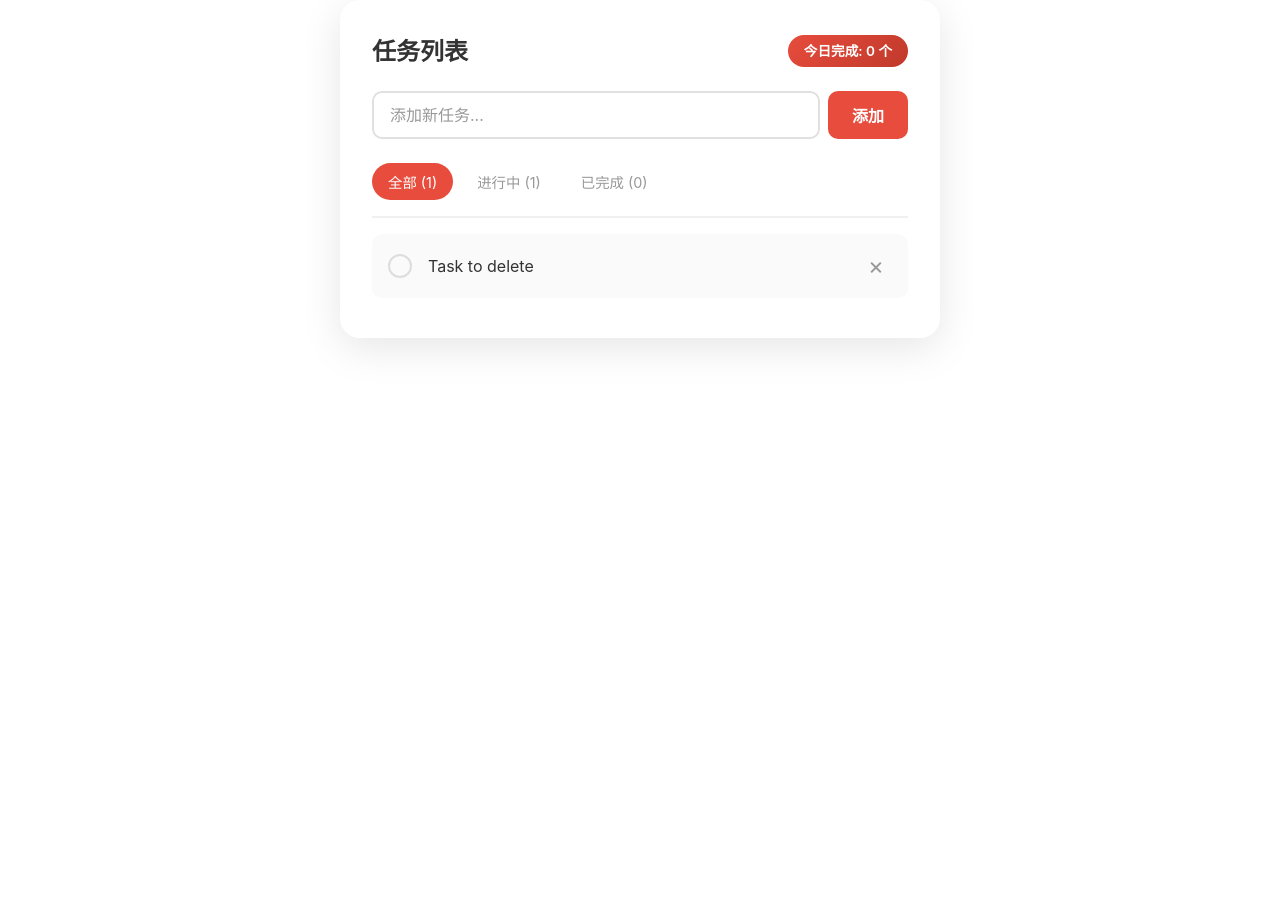
it: TaskList › delete task › deletes task after confirm
What coordinates should you click on to do the following:
click the button titled "删除任务"
I would click on:
 (876, 266)
Its box is top-left (860, 250), bottom-right (892, 282).
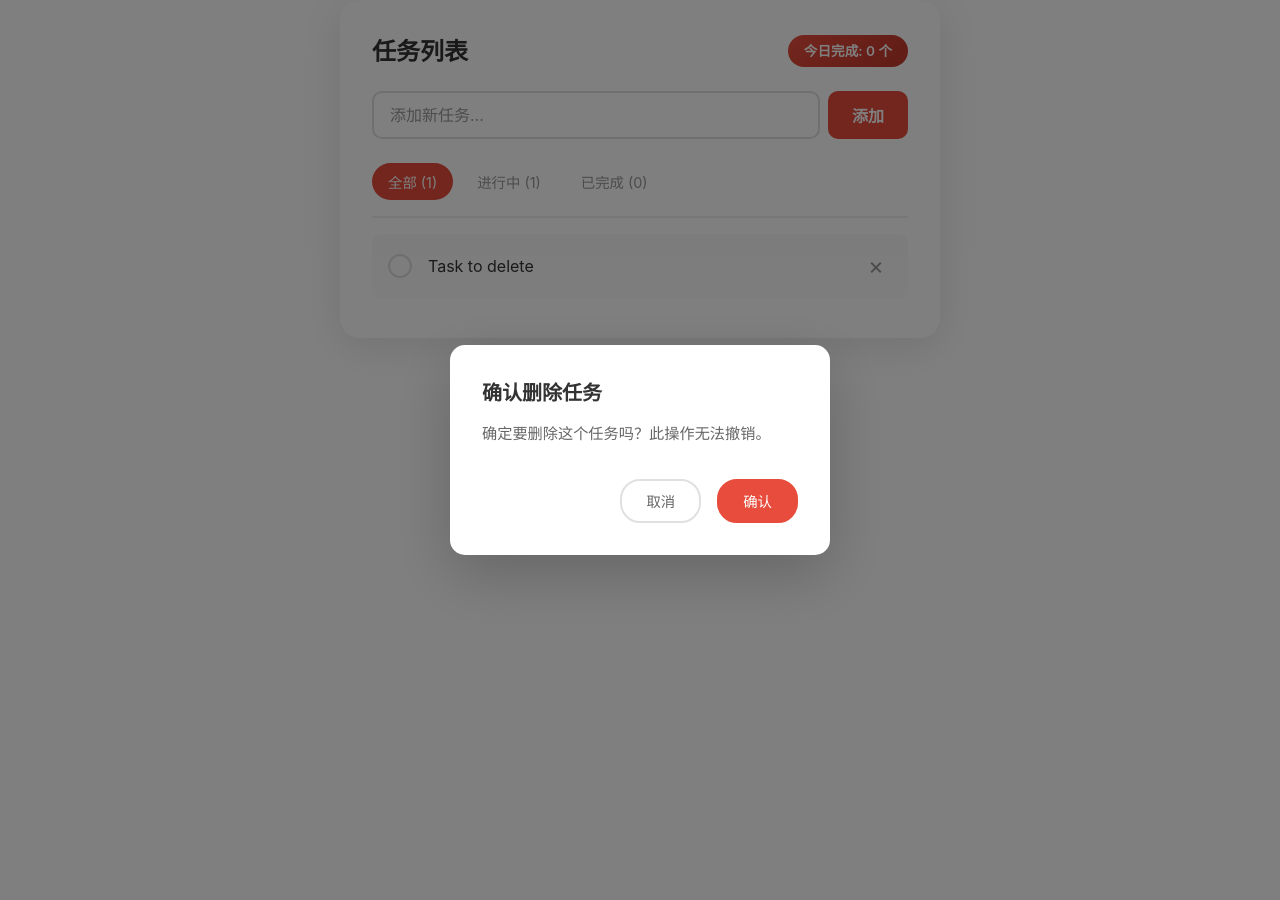
What coordinates should you click on to do the following:
click the button "确认"
I would click on:
 (758, 501)
Its box is top-left (717, 479), bottom-right (798, 523).
Wait 300 ms
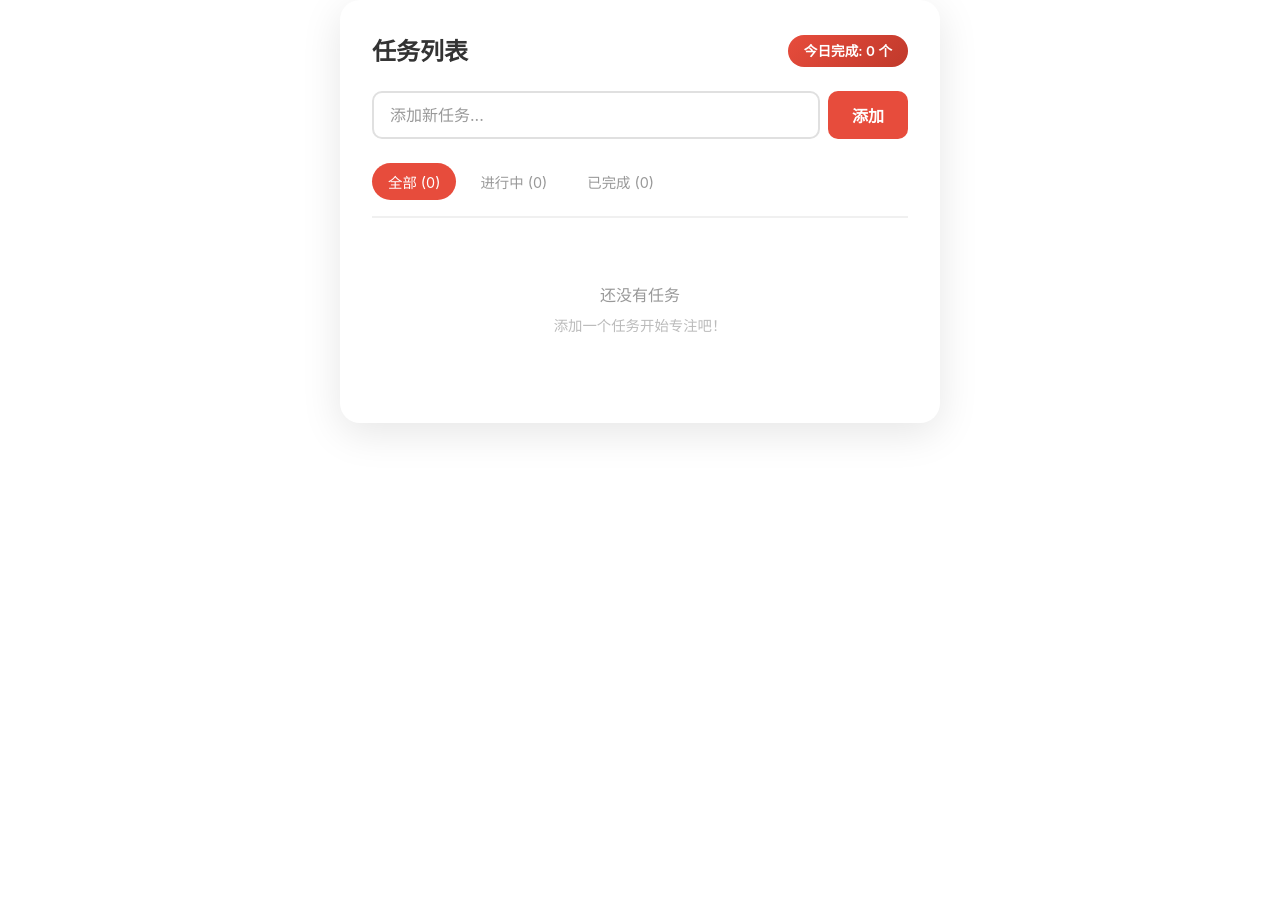
Result: the text "Task to delete" is gone
